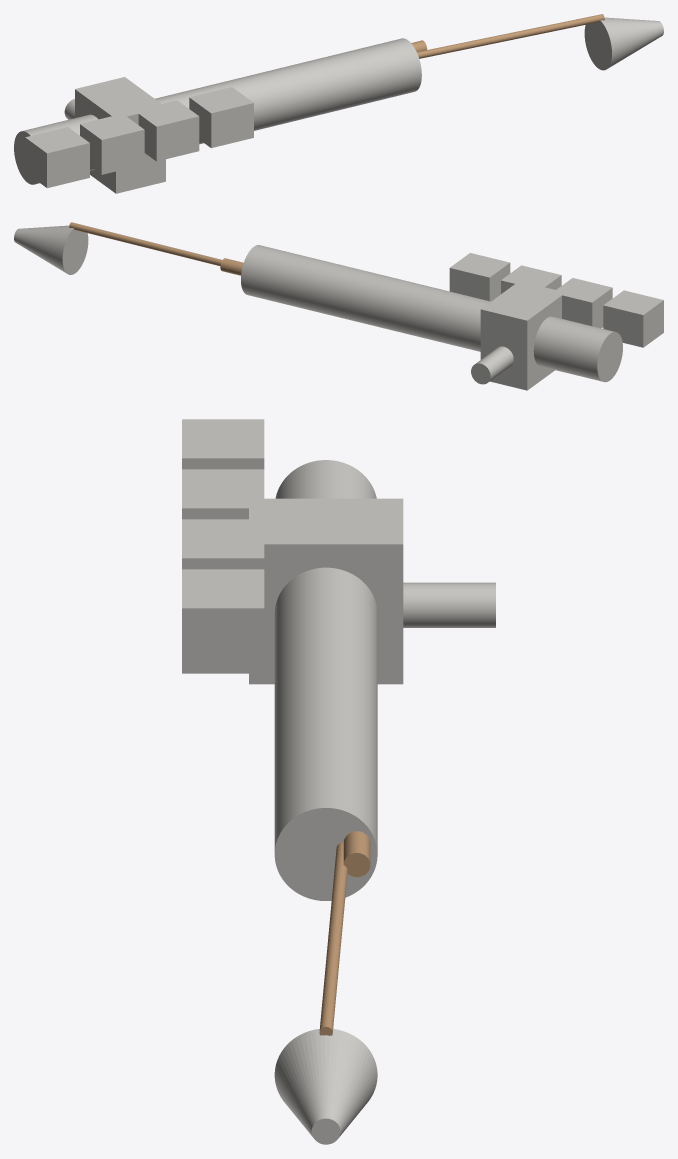
3 renders of one model, top to bottom at view 1: azimuth 30°, elevation 25°; view 2: azimuth 150°, elevation 25°; view 3: azimuth 270°, elevation 25°, orthographic. The views are drawn at different scales.
Visible parts, largest first — view 1: device_shaft, hub, module_04, module_01, module_02, module_03, distal_tip, link_flow_lumen__distal_tip; view 2: device_shaft, hub, module_04, distal_tip, module_01, module_03, link_flow_lumen__distal_tip, module_02, flow_lumen; view 3: device_shaft, hub, module_01, distal_tip, module_04, module_03, module_02, link_flow_lumen__distal_tip, flow_lumen.
Boxes of the visible parts, bbox=[...] form: device_shaft: bbox=[14, 38, 421, 184]; hub: bbox=[64, 77, 165, 193]; module_04: bbox=[25, 127, 89, 188]; module_01: bbox=[189, 87, 253, 148]; module_02: bbox=[135, 100, 199, 161]; module_03: bbox=[80, 114, 144, 174]; distal_tip: bbox=[584, 17, 663, 70]; link_flow_lumen__distal_tip: bbox=[417, 14, 604, 58]; device_shaft: bbox=[241, 245, 622, 382]; hub: bbox=[471, 281, 565, 390]; module_04: bbox=[603, 290, 663, 347]; distal_tip: bbox=[14, 225, 88, 274]; module_01: bbox=[449, 253, 510, 301]; module_03: bbox=[554, 278, 612, 328]; link_flow_lumen__distal_tip: bbox=[69, 222, 222, 265]; module_02: bbox=[501, 265, 561, 293]; flow_lumen: bbox=[220, 258, 243, 275]; device_shaft: bbox=[274, 460, 377, 900]; hub: bbox=[249, 498, 495, 684]; module_01: bbox=[182, 569, 264, 673]; distal_tip: bbox=[274, 1029, 377, 1144]; module_04: bbox=[182, 419, 264, 469]; module_03: bbox=[182, 469, 264, 519]; module_02: bbox=[182, 519, 264, 569]; link_flow_lumen__distal_tip: bbox=[319, 842, 347, 1035]; flow_lumen: bbox=[343, 831, 370, 877].
Bounding box in the file's own units: 13.7 × 1.75 × 3.05.
